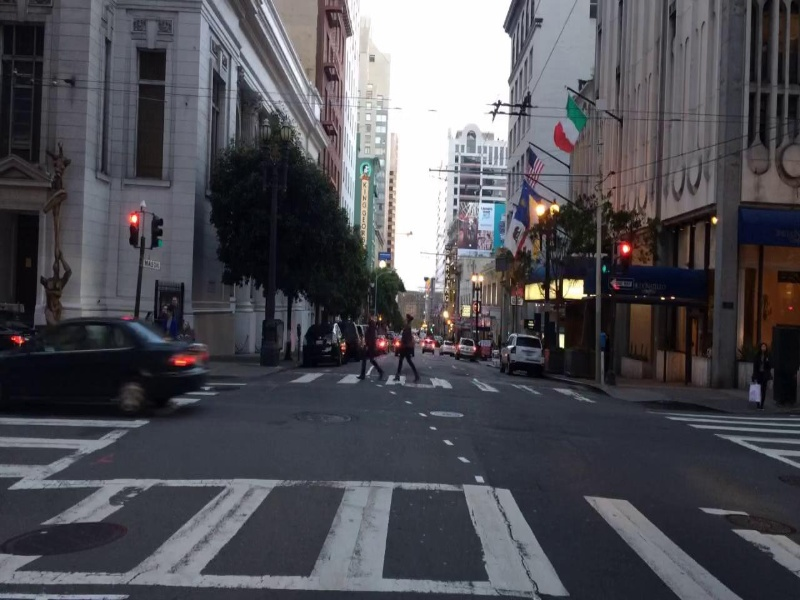car: (1, 315, 220, 429), (495, 331, 546, 378), (297, 323, 343, 363), (457, 334, 479, 365), (438, 338, 456, 359), (420, 338, 437, 354)
person: (392, 310, 428, 385), (354, 310, 387, 386), (749, 337, 774, 410), (163, 289, 187, 338)
